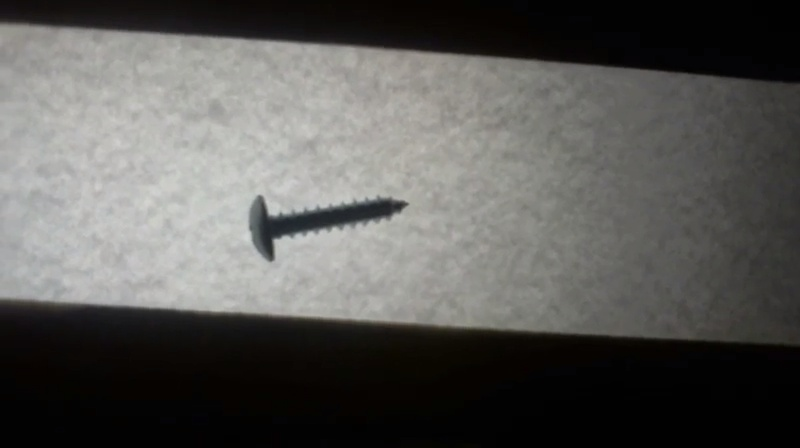S003: (245, 191, 410, 264)
